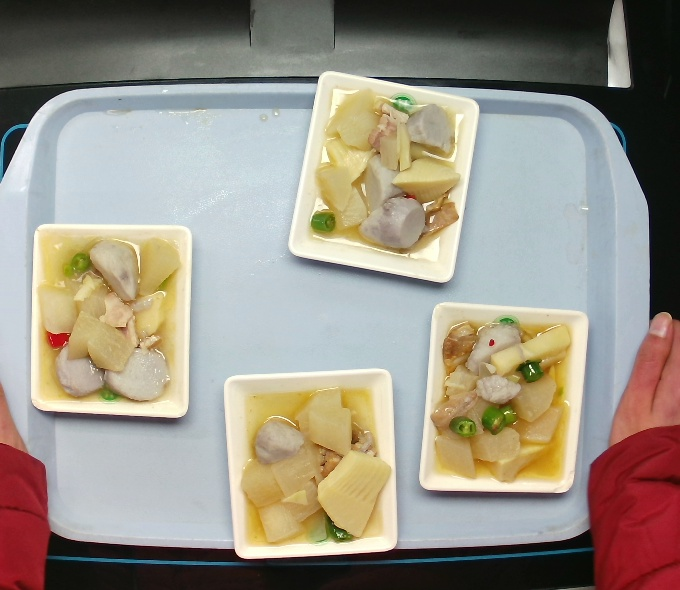wcq-YangYuChunSunDunLuoBo: (314, 87, 453, 253), (42, 240, 181, 406), (242, 385, 381, 551), (438, 319, 577, 485)
